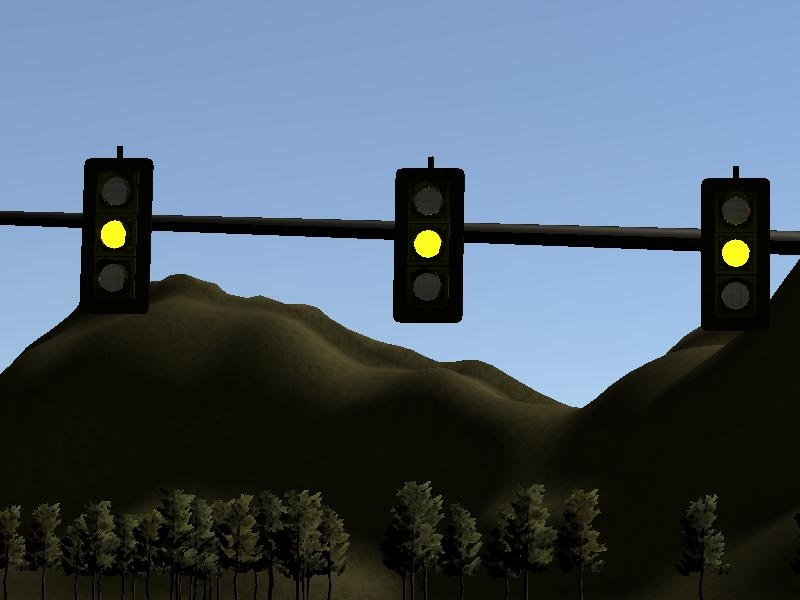yellow: (698, 174, 772, 345), (391, 166, 467, 331), (81, 155, 151, 314)
